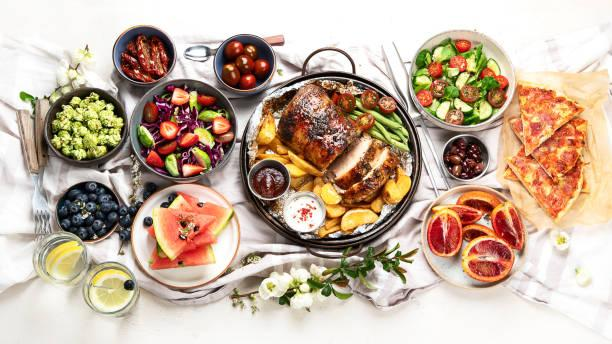Braised Crucian Carp: (237, 65, 417, 254), (496, 68, 612, 230), (131, 182, 240, 288), (420, 185, 527, 290), (127, 79, 234, 182), (409, 29, 516, 131), (42, 87, 126, 166), (442, 133, 491, 181), (247, 157, 290, 200)
